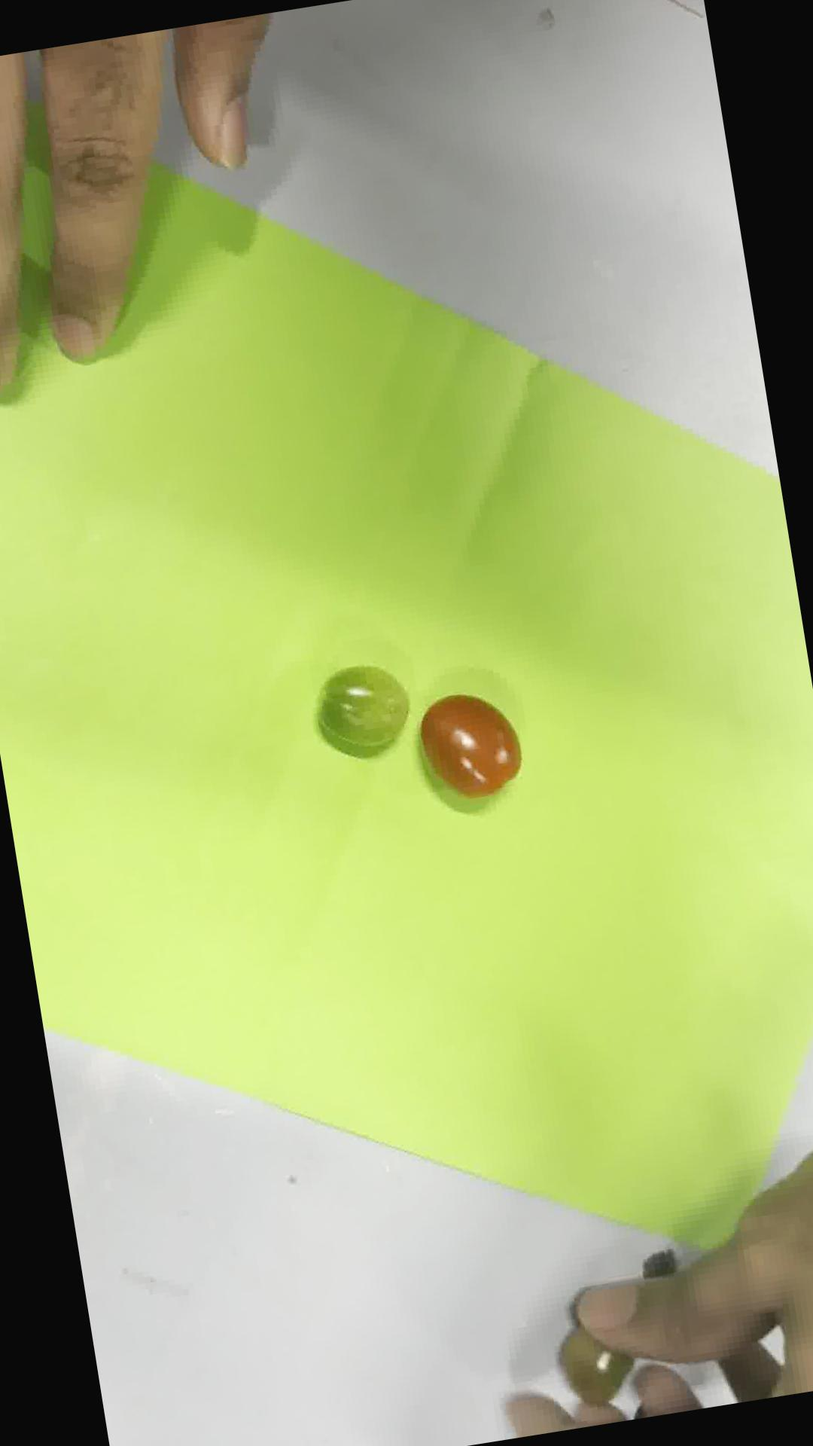green_cherry_tomato: (317, 664, 408, 757)
red_cherry_tomato: (420, 693, 521, 799)
